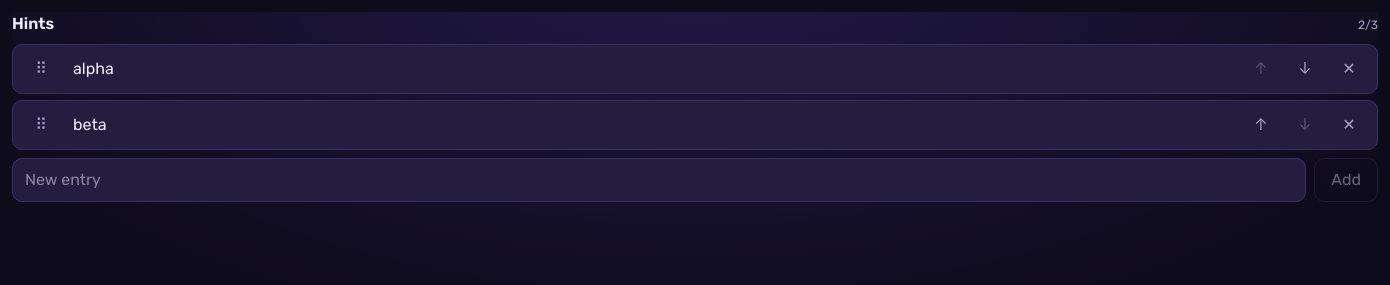
Test: ListEditor (FR-A12) › edits in place with the Save and Cancel buttons; clicking away keeps the edit
This screenshot has width=1390, height=285.
Click the button with aria-label "Edit “alpha”" at (93, 68), box [65,49,1237,89]
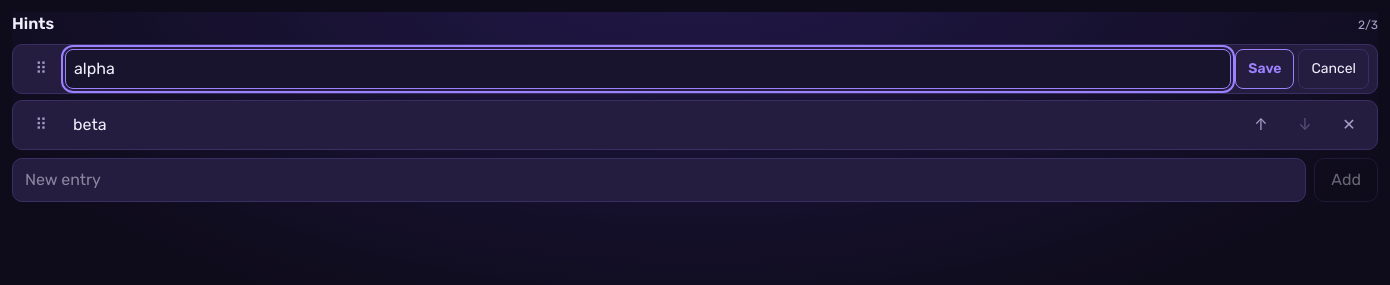
Replace the text in the field named "Edit “alpha”" with "gamma" at (648, 69), box [65,49,1231,89]
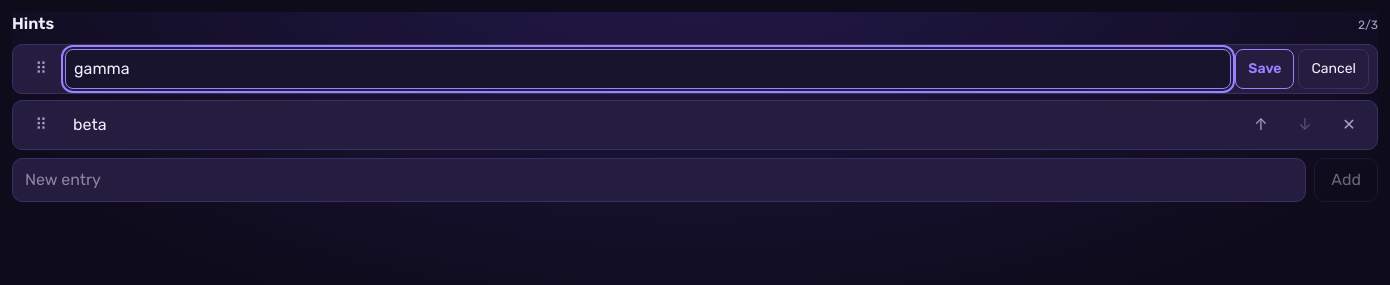
Click the button "Cancel" at (1334, 69), box [1298,49,1369,89]
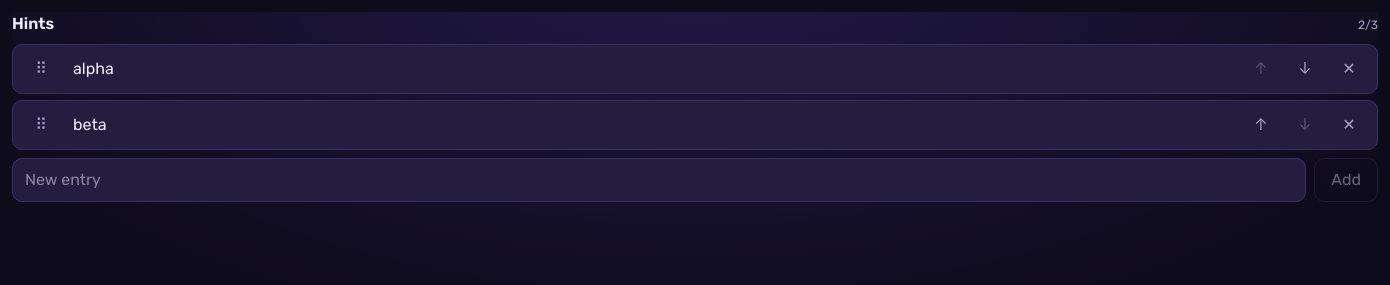
Click the button with aria-label "Edit “alpha”" at (93, 68), box [65,49,1237,89]
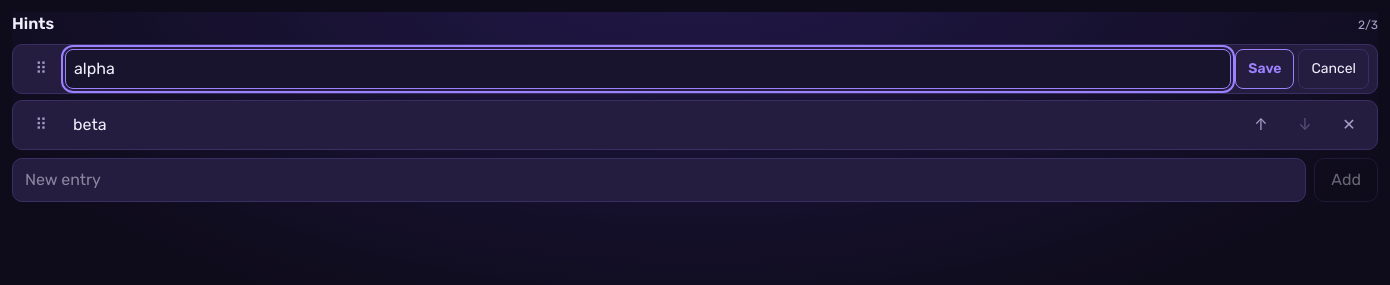
Replace the text in the field named "Edit “alpha”" with "delta" at (648, 69), box [65,49,1231,89]
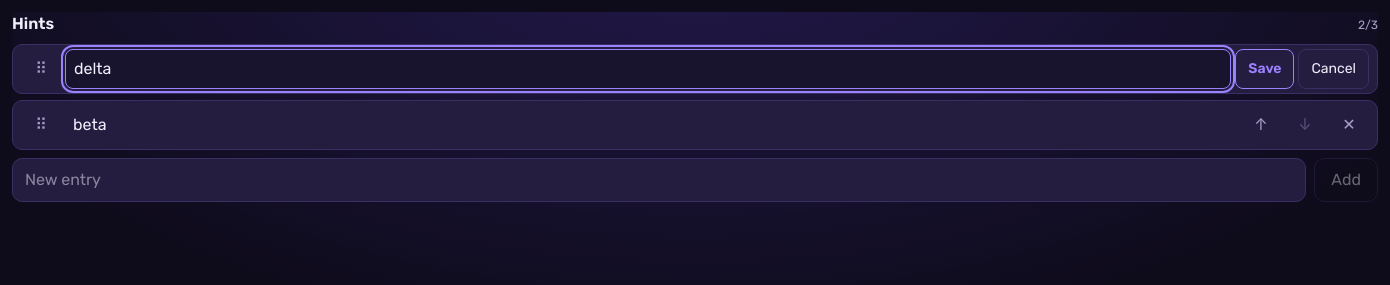
Click the button "Save" at (1265, 69), box [1235,49,1294,89]
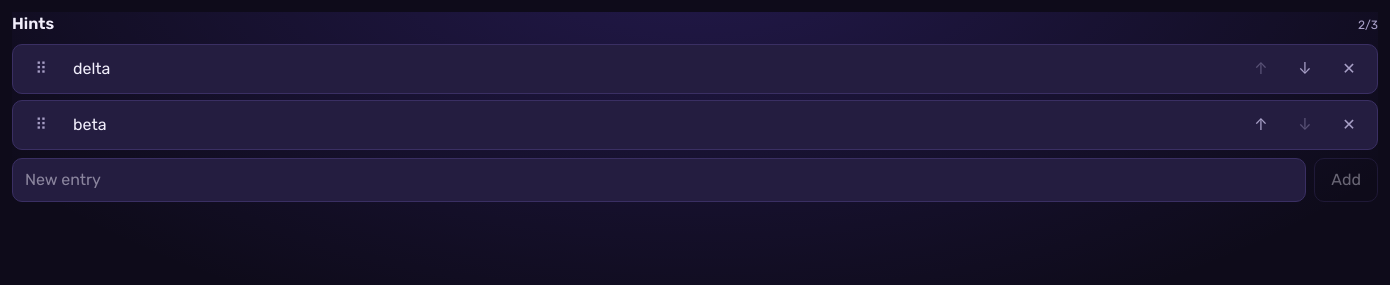
Result: the button "Save" is gone
